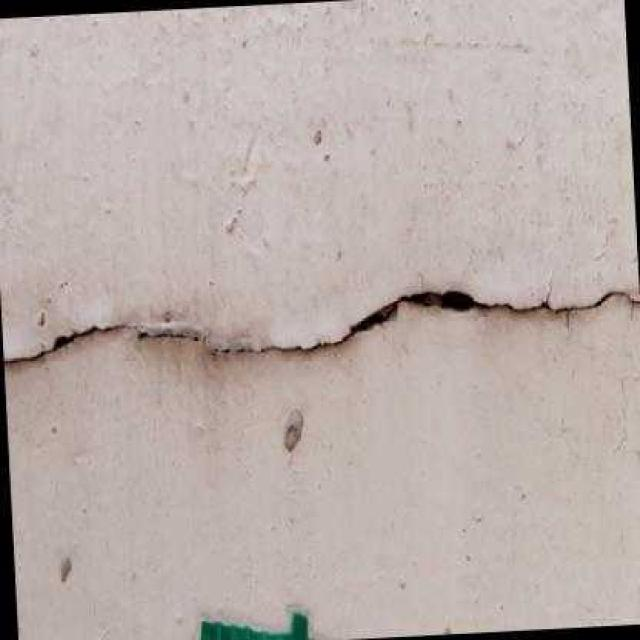D00: (1, 287, 640, 363)
